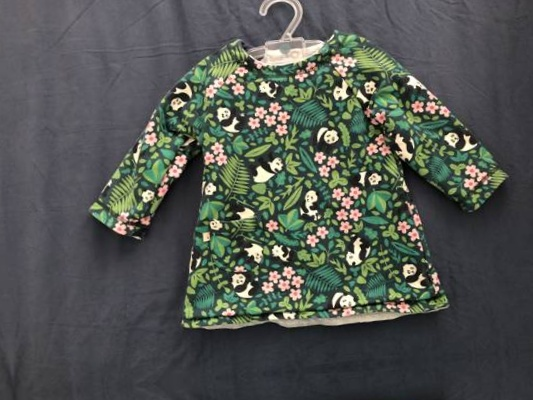Dress: (70, 0, 530, 359), (104, 381, 533, 400)
